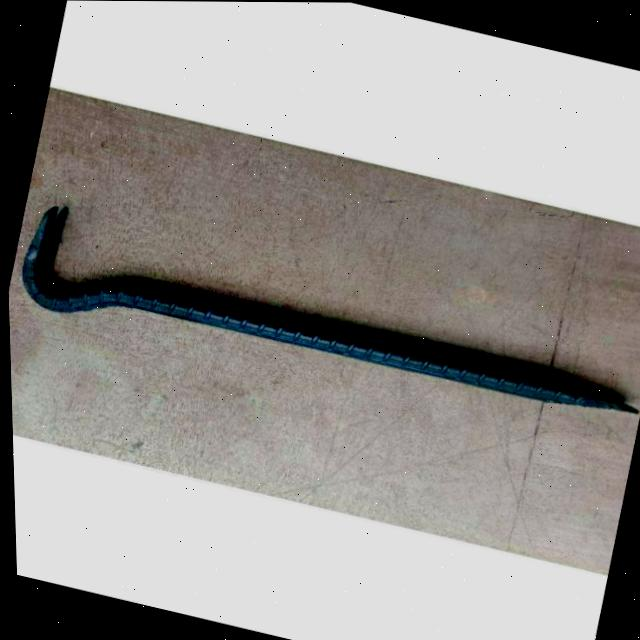crow bar: (7, 195, 631, 421)
